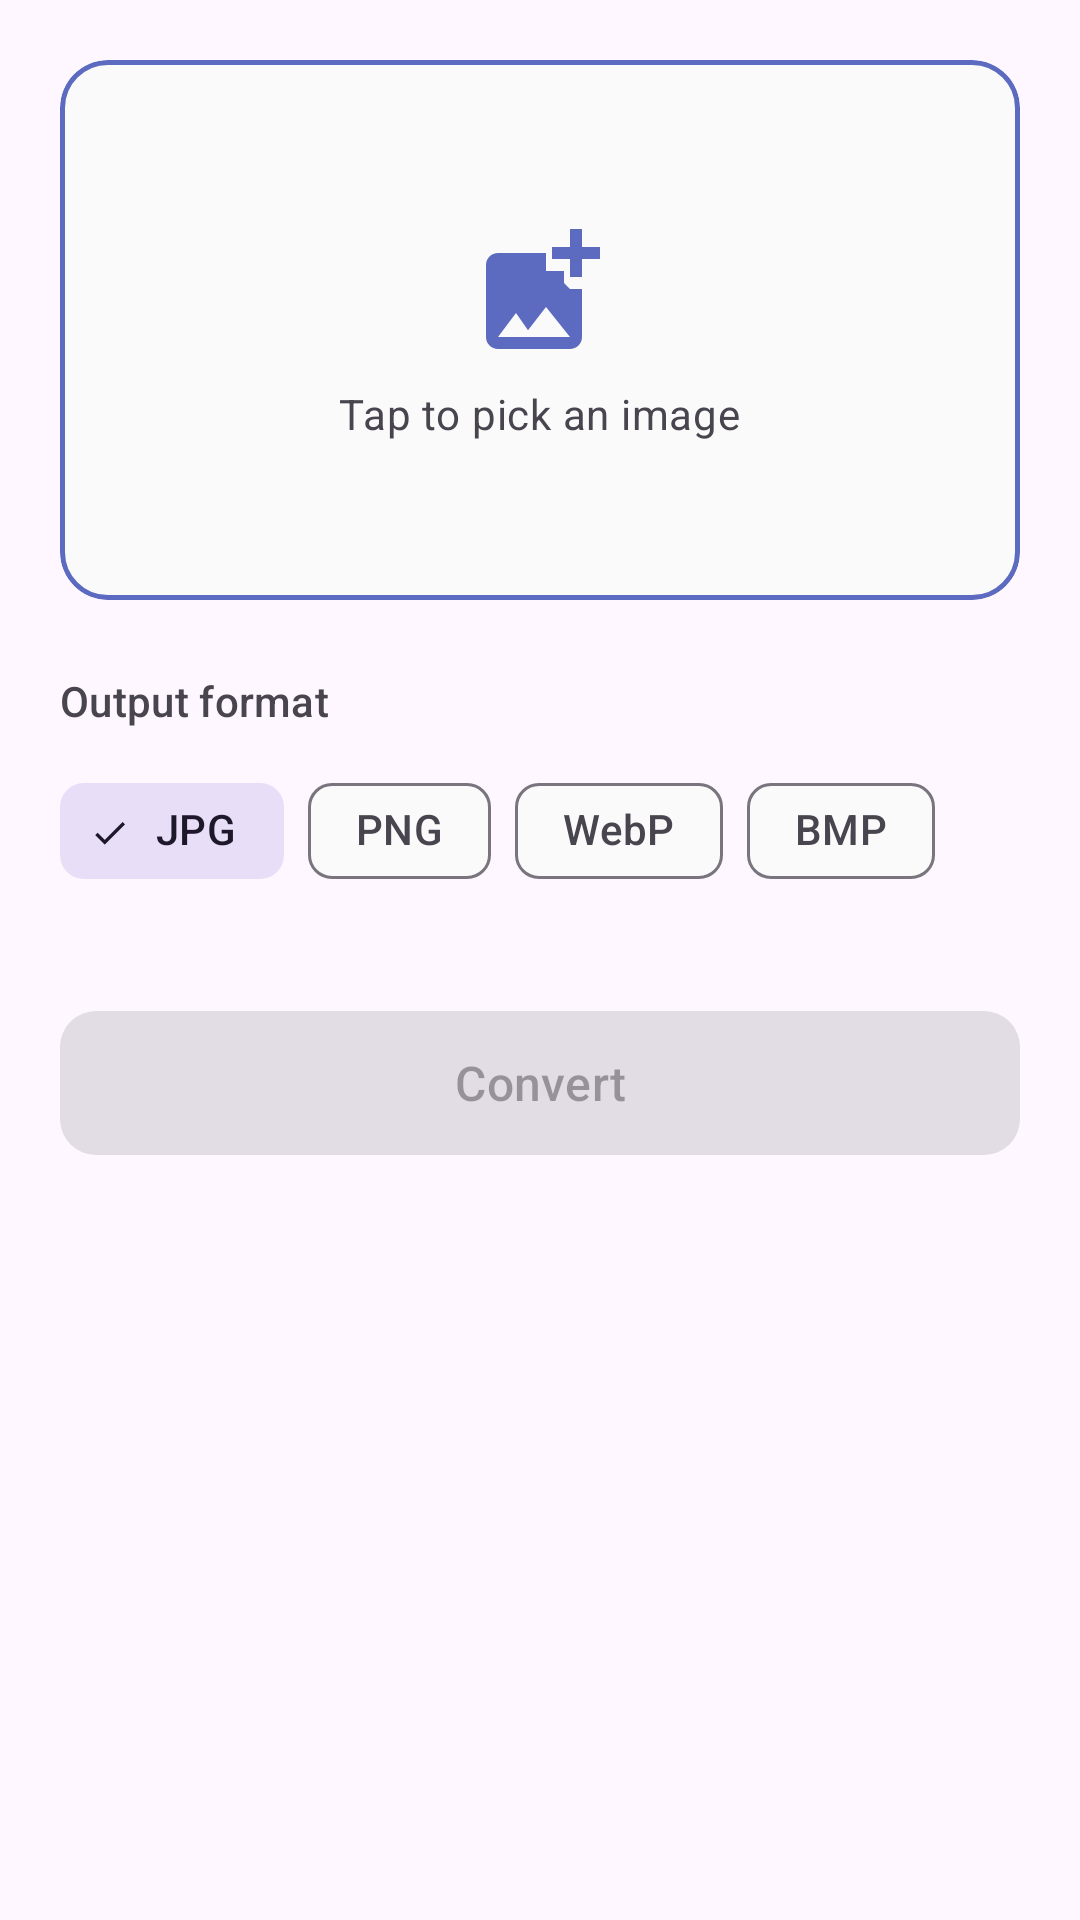

Icons on this 1080 x 1920 Android screen, each with the point to tap as (x=x, y=y):
add photo: (x=543, y=289)
